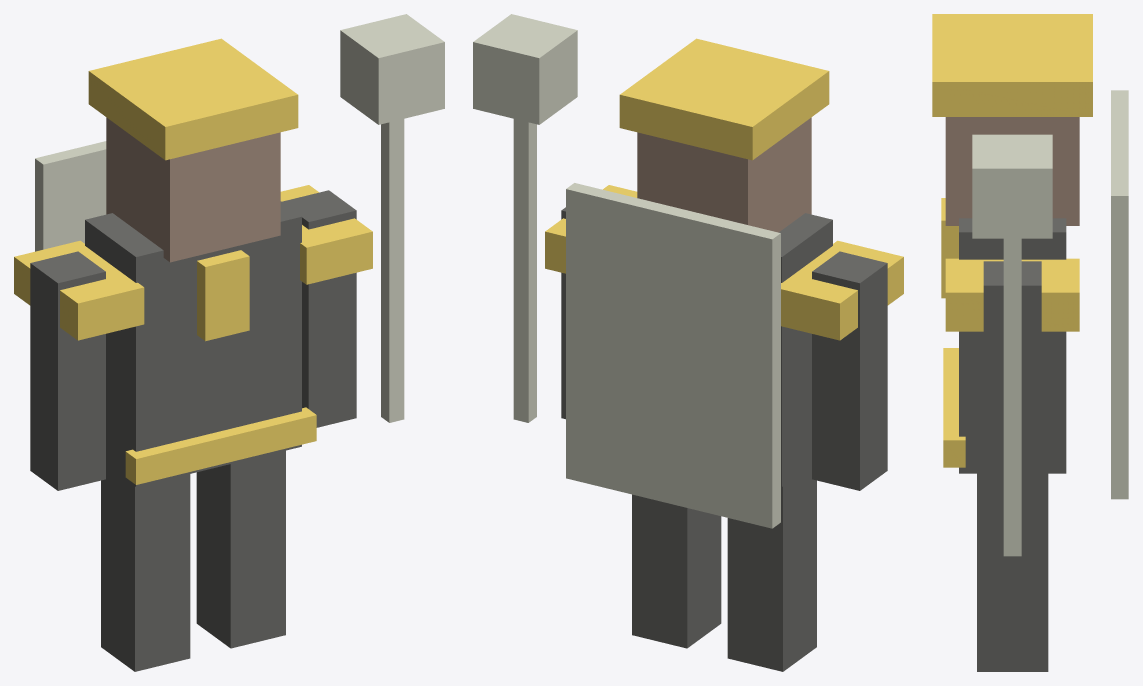
File: 10_mirek_dubwater_fixer_near_heat.glb
3 views of the same model, side by side, from view 1: azimuth 30°, elevation 25°; view 2: azimuth 150°, elevation 25°; view 3: azimuth 270°, elevation 25° (orthographic). The views are drawn at different scales.
Visible parts, largest first — view 1: Mirek Dubwater, Fixer near Heat; view 2: Mirek Dubwater, Fixer near Heat; view 3: Mirek Dubwater, Fixer near Heat.
Part boxes in pixels (x1,y1,x2,y2): Mirek Dubwater, Fixer near Heat: (14, 14, 444, 671); Mirek Dubwater, Fixer near Heat: (473, 14, 903, 671); Mirek Dubwater, Fixer near Heat: (932, 14, 1128, 671).
Size of the model in its own units: 1.05 by 1.47 by 0.4469.
